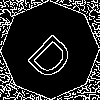D: (25, 25, 83, 83)
